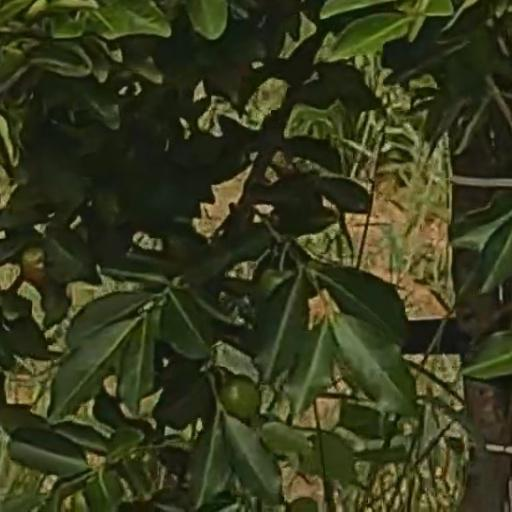acerola_verde: (223, 377, 262, 420)
